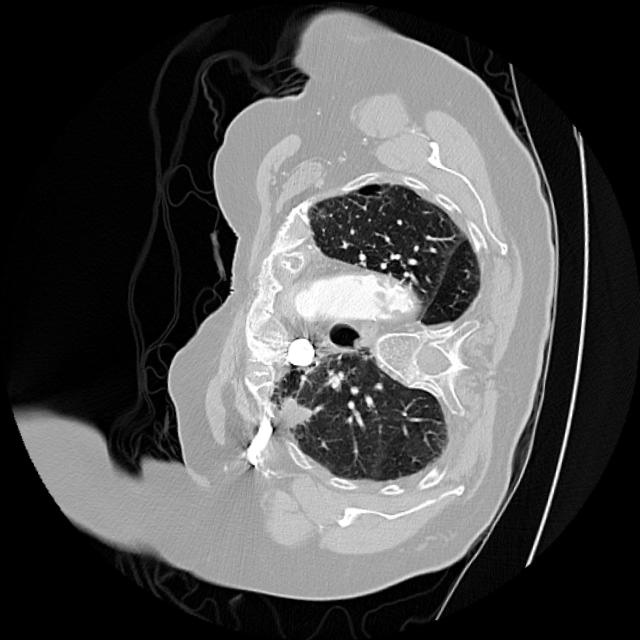nodule: (256, 380, 324, 448)
